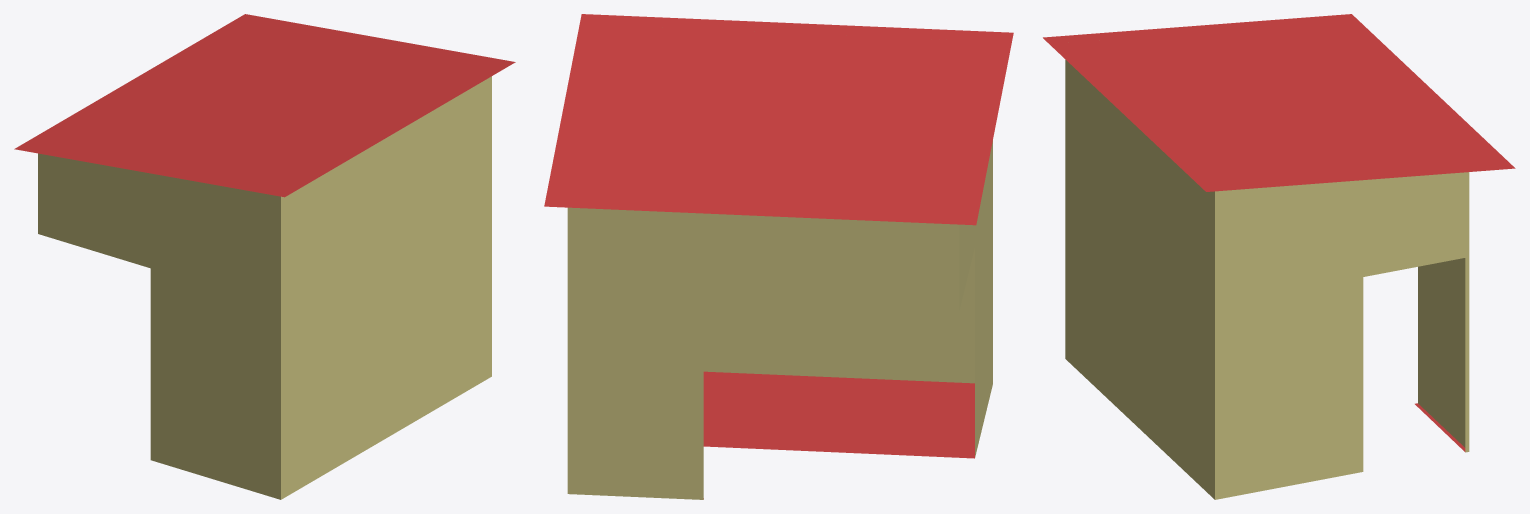
The picture shows the model from 3 angles, left to right: view 1: azimuth 30°, elevation 25°; view 2: azimuth 150°, elevation 25°; view 3: azimuth 270°, elevation 25°; orthographic projection. The views are drawn at different scales.
Bounding box in the file's own units: 14.41 × 13.52 × 10.01.
